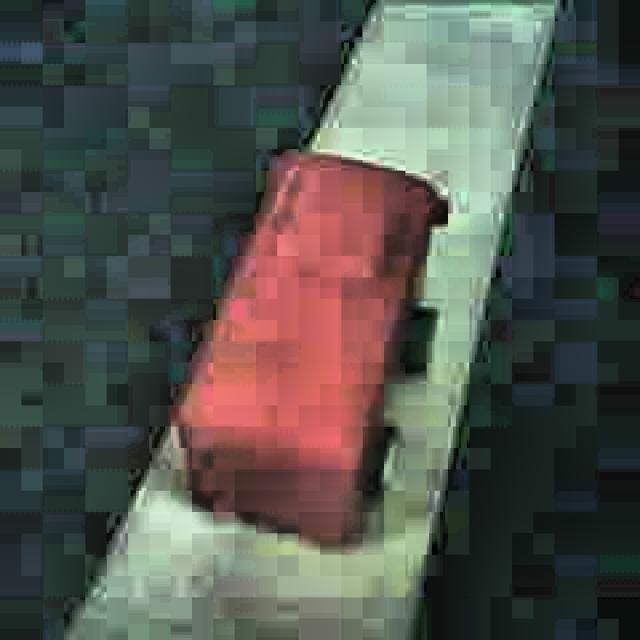bus: (173, 148, 451, 553)
